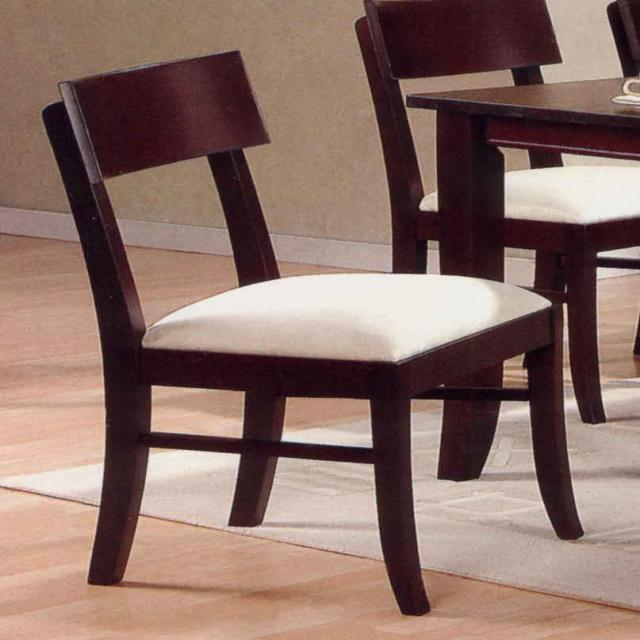chair: (40, 49, 585, 616)
